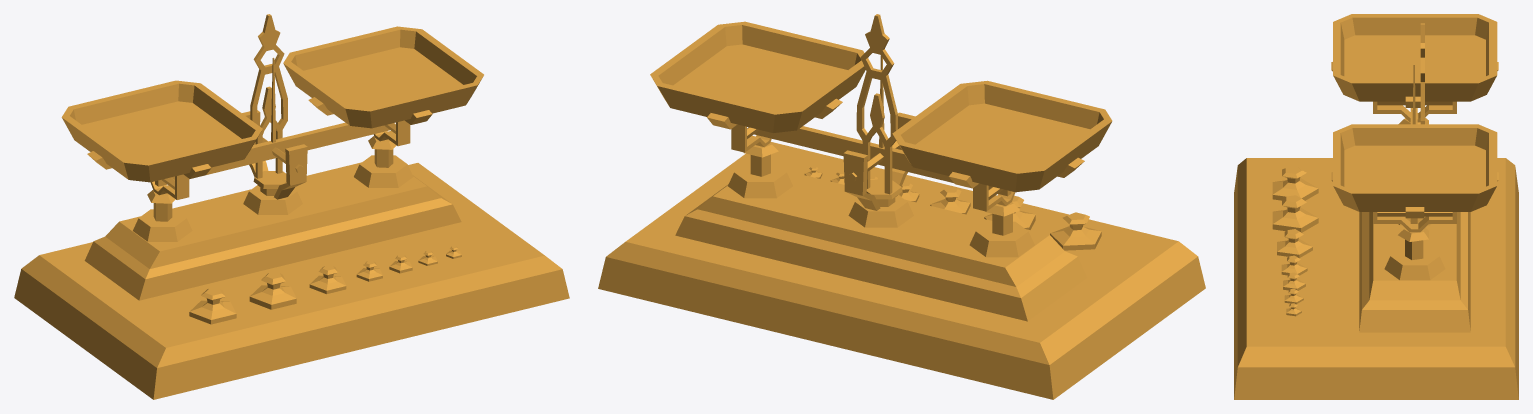
File: SM_Scales_Balance_C.fbx
3 renders of one model, left to right at view 1: azimuth 30°, elevation 25°; view 2: azimuth 150°, elevation 25°; view 3: azimuth 270°, elevation 25°, orthographic. The views are drawn at different scales.
Parts seen in each view (by area): view 1: scales-balance-c; view 2: scales-balance-c; view 3: scales-balance-c.
Part boxes in pixels (left/top/right/bottom): scales-balance-c: left=14, top=14, right=569, bottom=399; scales-balance-c: left=598, top=14, right=1205, bottom=399; scales-balance-c: left=1234, top=14, right=1518, bottom=399.
Bounding box in the file's own units: 0.5962 × 0.3647 × 0.3458.
